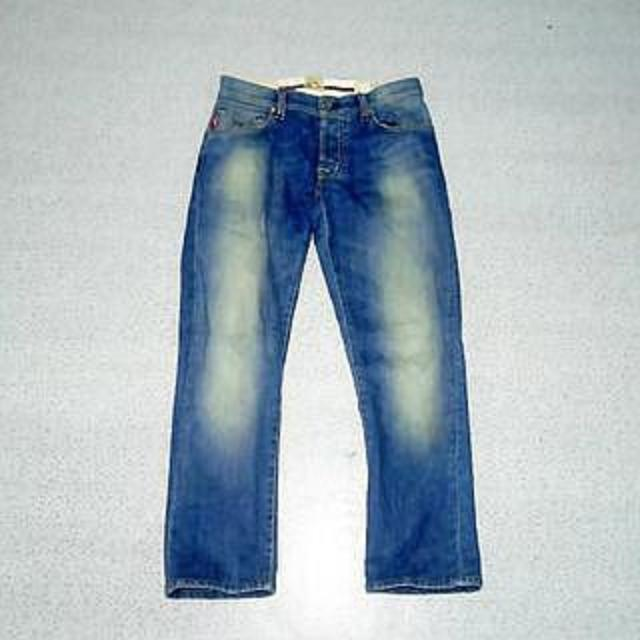TROUSER: (156, 66, 494, 605)
